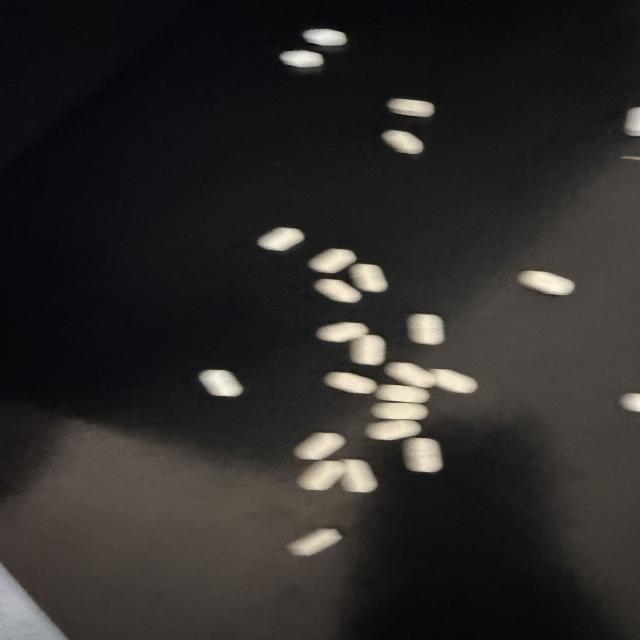pill: (287, 529, 342, 556), (294, 433, 346, 460), (517, 271, 575, 295), (298, 461, 344, 490), (403, 438, 442, 472), (385, 363, 436, 387), (308, 249, 357, 273), (341, 460, 377, 492), (199, 370, 243, 396), (314, 279, 361, 303), (365, 420, 421, 440), (324, 372, 377, 393), (431, 369, 477, 393), (349, 264, 388, 292), (257, 228, 304, 251), (350, 335, 386, 365), (408, 314, 444, 344), (316, 322, 368, 342), (381, 130, 423, 154), (376, 385, 429, 403), (371, 403, 427, 420), (387, 99, 434, 117), (280, 50, 323, 68), (302, 29, 347, 46), (624, 108, 639, 136), (620, 393, 639, 411)
